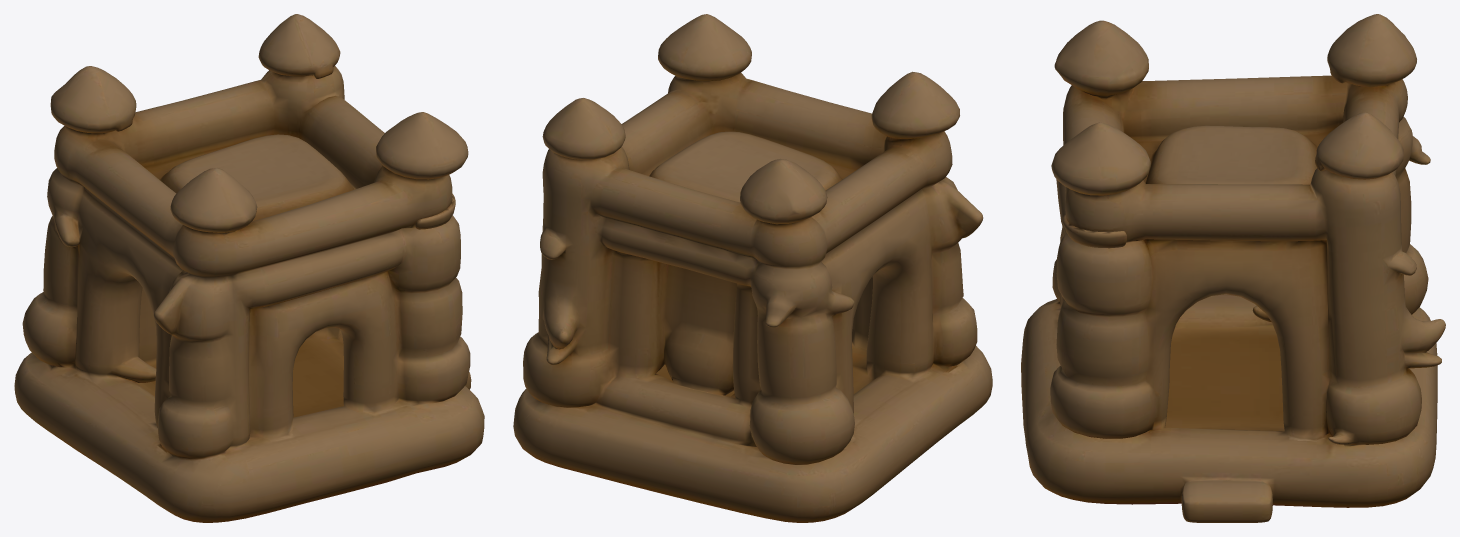
The model's file is env_nest_bounce_castle_01.glb.
The picture shows the model from 3 angles, left to right: view 1: azimuth 30°, elevation 25°; view 2: azimuth 150°, elevation 25°; view 3: azimuth 270°, elevation 25°; orthographic projection. The views are drawn at different scales.
Visible parts, largest first — view 1: env_nest_bounce_castle_01; view 2: env_nest_bounce_castle_01; view 3: env_nest_bounce_castle_01.
Boxes of the visible parts, left/top/right/bottom form: env_nest_bounce_castle_01: left=14, top=14, right=484, bottom=522; env_nest_bounce_castle_01: left=513, top=14, right=992, bottom=522; env_nest_bounce_castle_01: left=1021, top=14, right=1445, bottom=522.
Bounding box in the file's own units: 2.8 × 2.5 × 2.61.
Materials: 1 (1 with a texture image).
